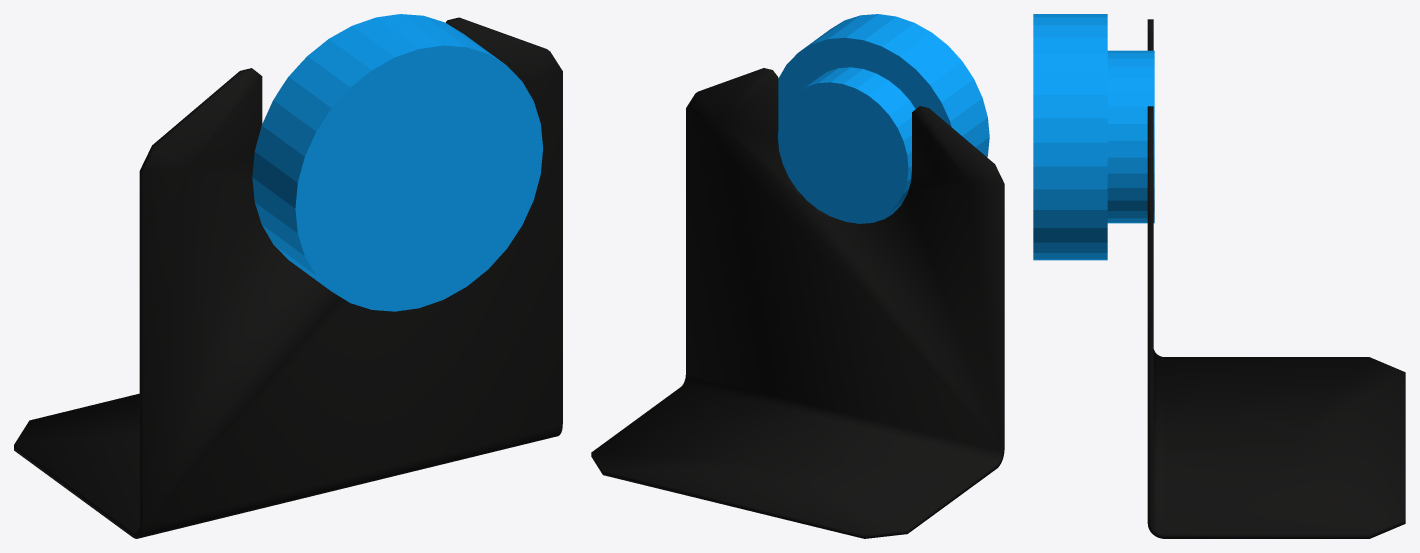
3 views of the same model, side by side, from view 1: azimuth 30°, elevation 25°; view 2: azimuth 150°, elevation 25°; view 3: azimuth 270°, elevation 25° (orthographic). The views are drawn at different scales.
Visible parts, largest first — view 1: DatchikOsv_Cylinder.001; view 2: DatchikOsv_Cylinder.001; view 3: DatchikOsv_Cylinder.001.
Boxes of the visible parts, x1,y1,x2,y2 form: DatchikOsv_Cylinder.001: [14, 14, 562, 538]; DatchikOsv_Cylinder.001: [591, 14, 1004, 538]; DatchikOsv_Cylinder.001: [1033, 14, 1405, 538].
Bounding box in the file's own units: 2.28 × 2.56 × 2.04.
